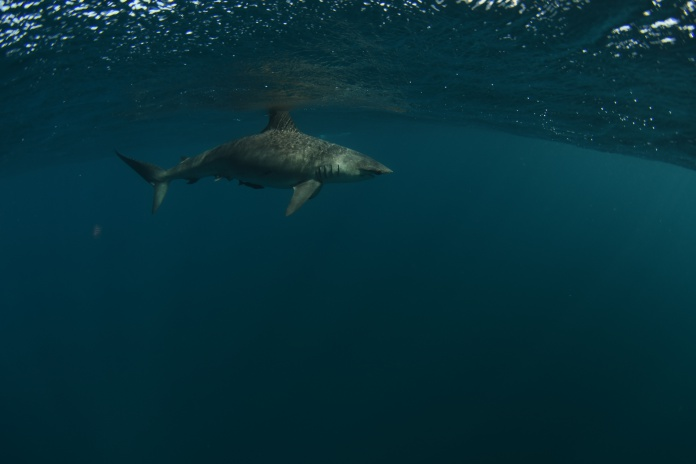Hammer: (94, 94, 399, 255)
